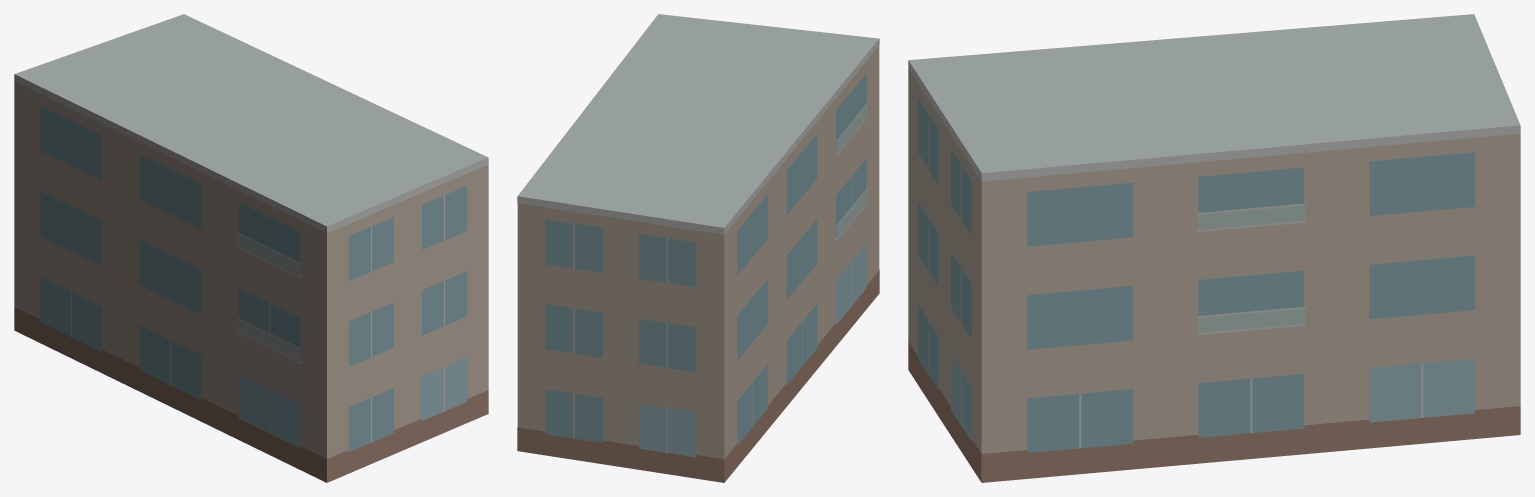
The model's file is survey-upis-32983430.glb.
The picture shows the model from 3 angles, left to right: view 1: azimuth 30°, elevation 25°; view 2: azimuth 150°, elevation 25°; view 3: azimuth 270°, elevation 25°; orthographic projection. The views are drawn at different scales.
Visible parts, largest first — view 1: survey-upis-32983430.tmp; view 2: survey-upis-32983430.tmp; view 3: survey-upis-32983430.tmp.
Part boxes in pixels (left/top/right/bottom): survey-upis-32983430.tmp: left=14, top=14, right=488, bottom=482; survey-upis-32983430.tmp: left=517, top=14, right=879, bottom=482; survey-upis-32983430.tmp: left=908, top=14, right=1520, bottom=482.
Size of the model in its own units: 10.05 by 9.1 by 16.32.
